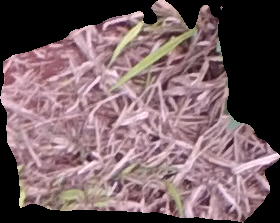soil: (2, 2, 279, 223)
